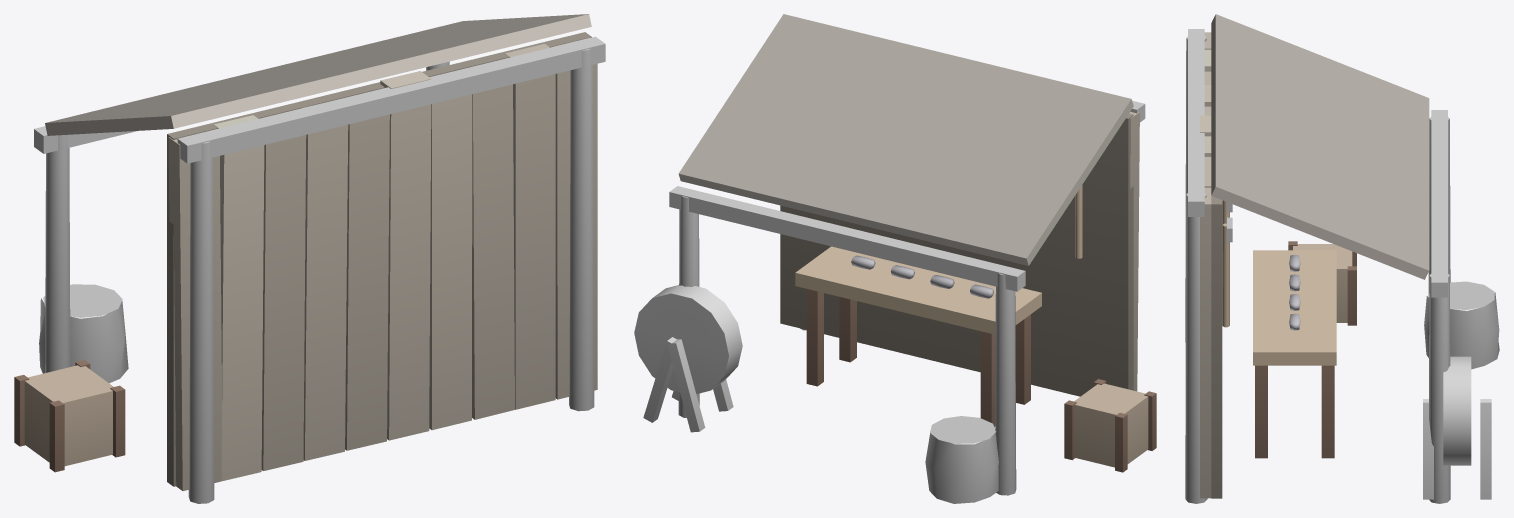
The model's file is hw_toolmaker.glb.
The picture shows the model from 3 angles, left to right: view 1: azimuth 30°, elevation 25°; view 2: azimuth 150°, elevation 25°; view 3: azimuth 270°, elevation 25°; orthographic projection. The views are drawn at different scales.
Parts seen in each view (by area): view 1: Building; view 2: Building; view 3: Building.
Boxes of the visible parts, x1,y1,x2,y2 form: Building: (14, 14, 605, 503); Building: (634, 14, 1156, 503); Building: (1185, 14, 1499, 503).
Size of the model in its own units: 2.74 by 1.91 by 1.69.
